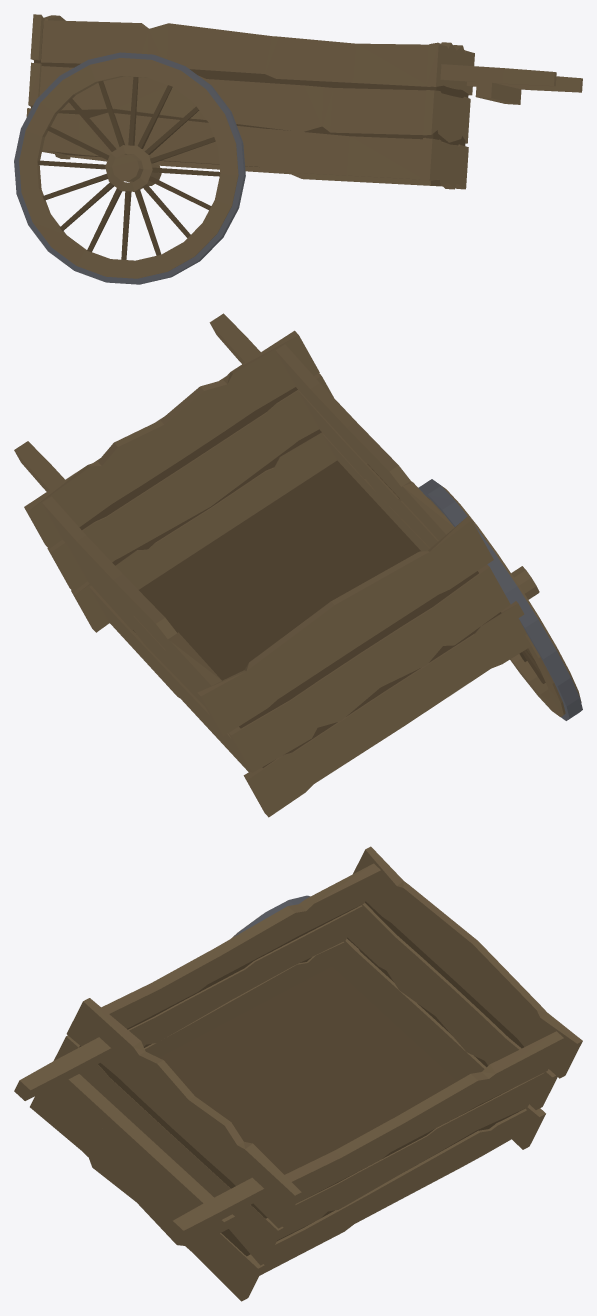
File: Cart.glb
3 views of the same model, one above another, from view 1: azimuth 30°, elevation 25°; view 2: azimuth 150°, elevation 25°; view 3: azimuth 270°, elevation 25° (orthographic). The views are drawn at different scales.
Visible parts, largest first — view 1: Cart; view 2: Cart; view 3: Cart.
Boxes of the visible parts, left/top/right/bottom form: Cart: left=14, top=14, right=582, bottom=284; Cart: left=14, top=313, right=582, bottom=817; Cart: left=14, top=846, right=582, bottom=1301.
Size of the model in its own units: 3.31 by 1.38 by 2.83.
